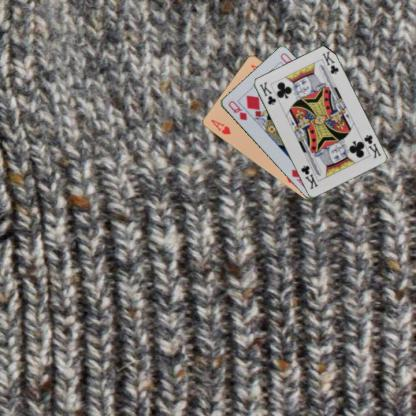Ah: (208, 116, 232, 135)
Kc: (361, 132, 383, 159), (257, 79, 278, 106)
Qd: (225, 98, 248, 122)
